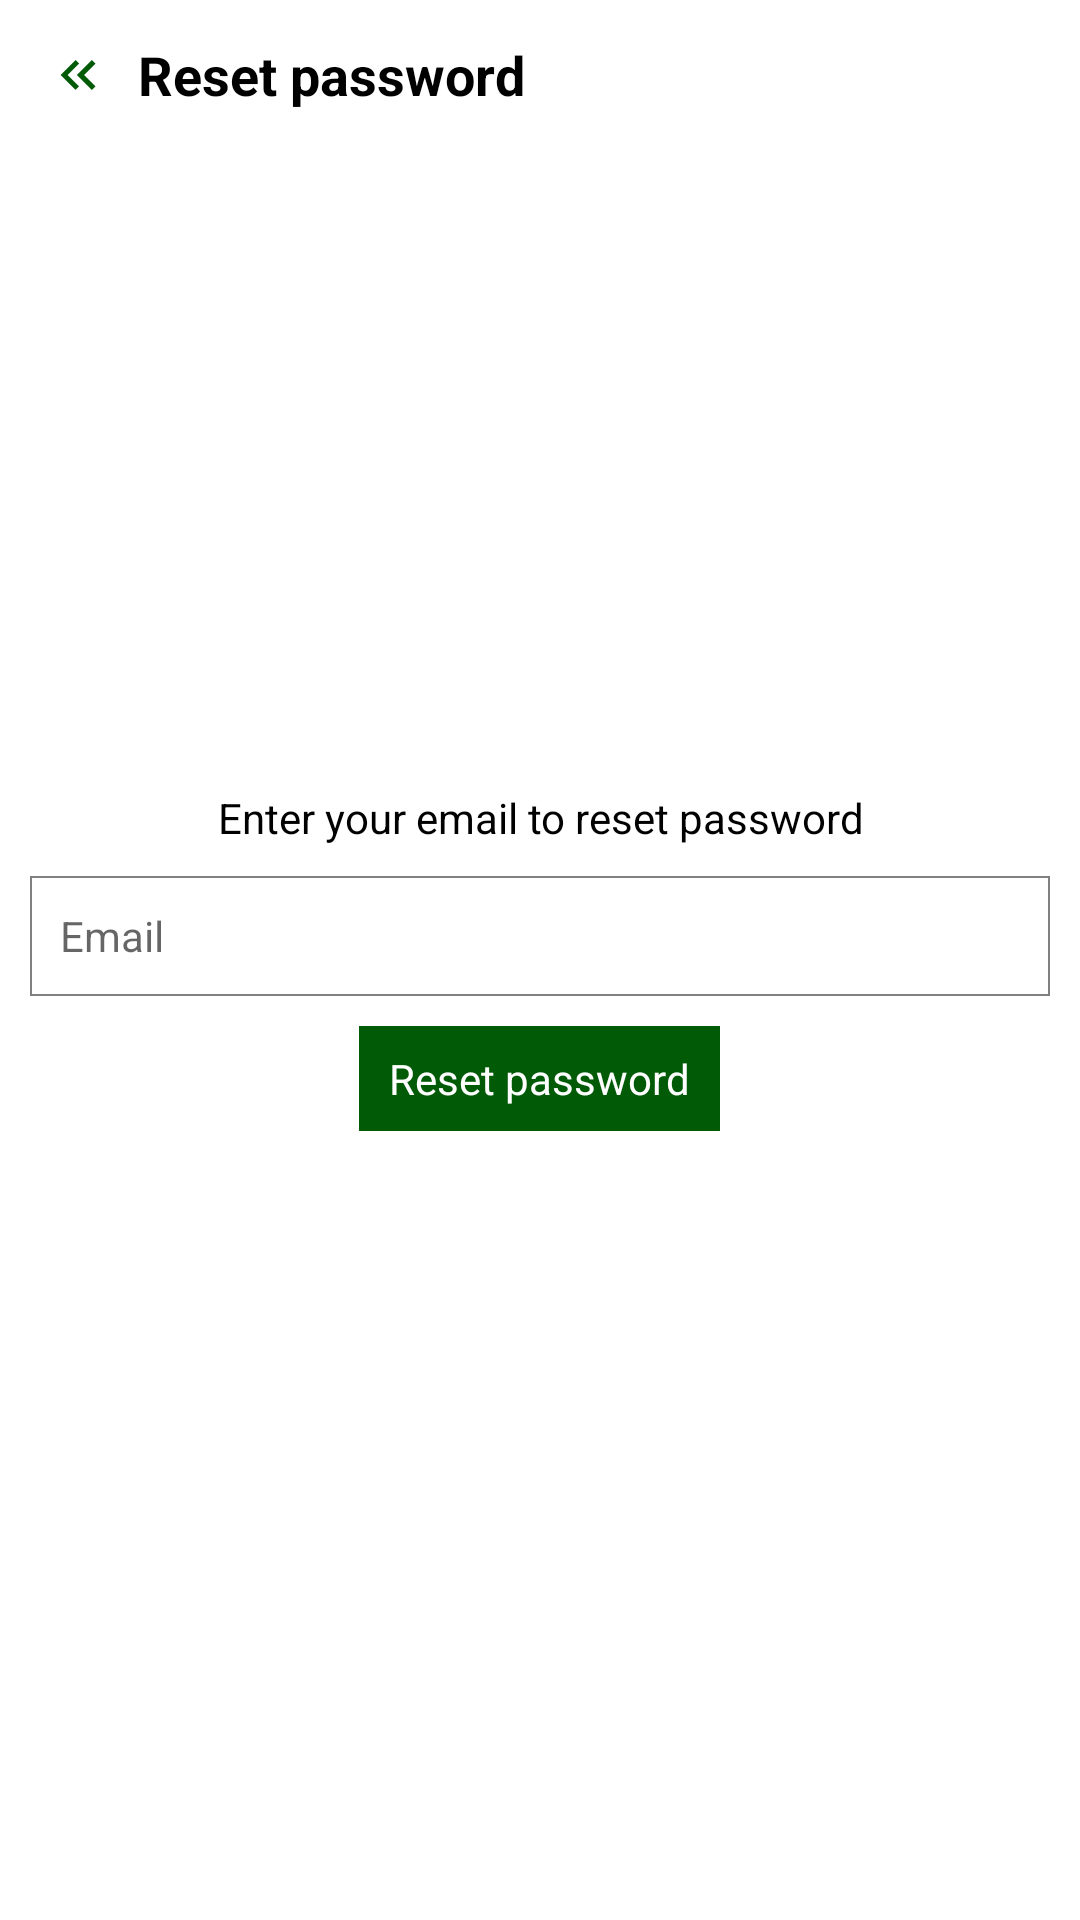

Screen size 1080w x 1920h. Icon name, then its box in pixels as (x1=x1, y1=y1, x2=x2, y2=y2):
keyboard double arrow left: (x1=61, y1=60, x2=96, y2=90)
